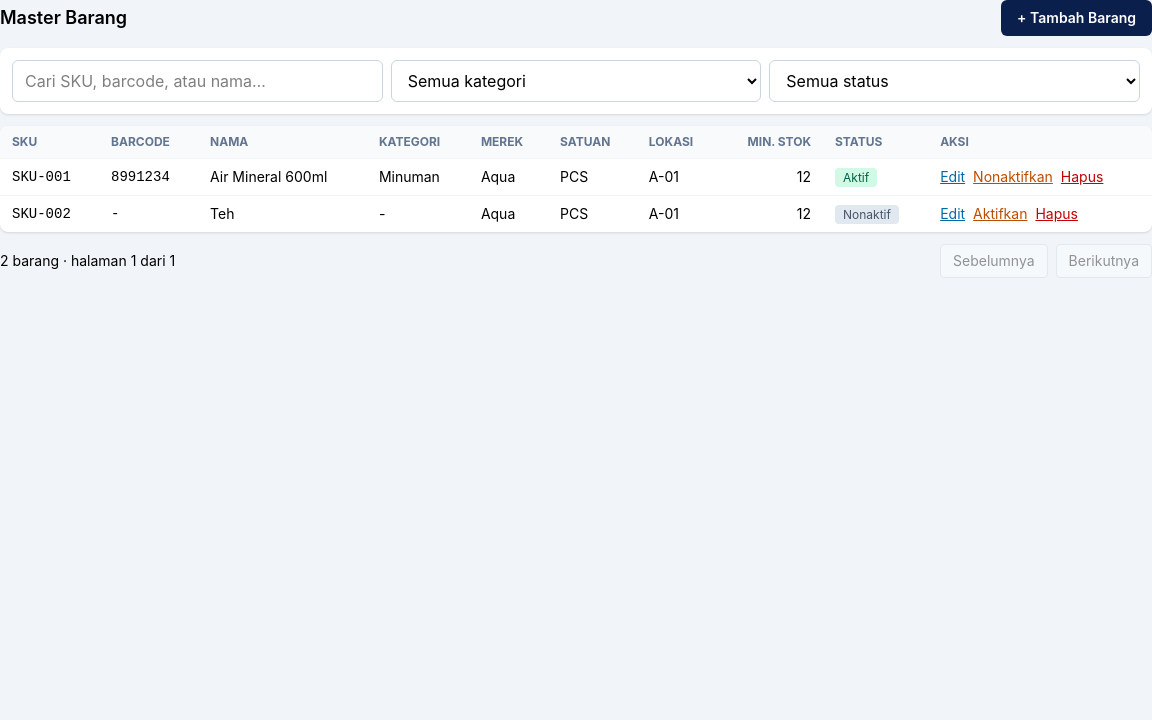
Test: Master Barang › edit: formulir terisi data barang dan memanggil updateProduct dengan id
Expected: the text "SKU-001" is shown, [0,158,99,196]
Click the button "Edit" in the row of "SKU-001": (953, 177) [940,167,965,187]
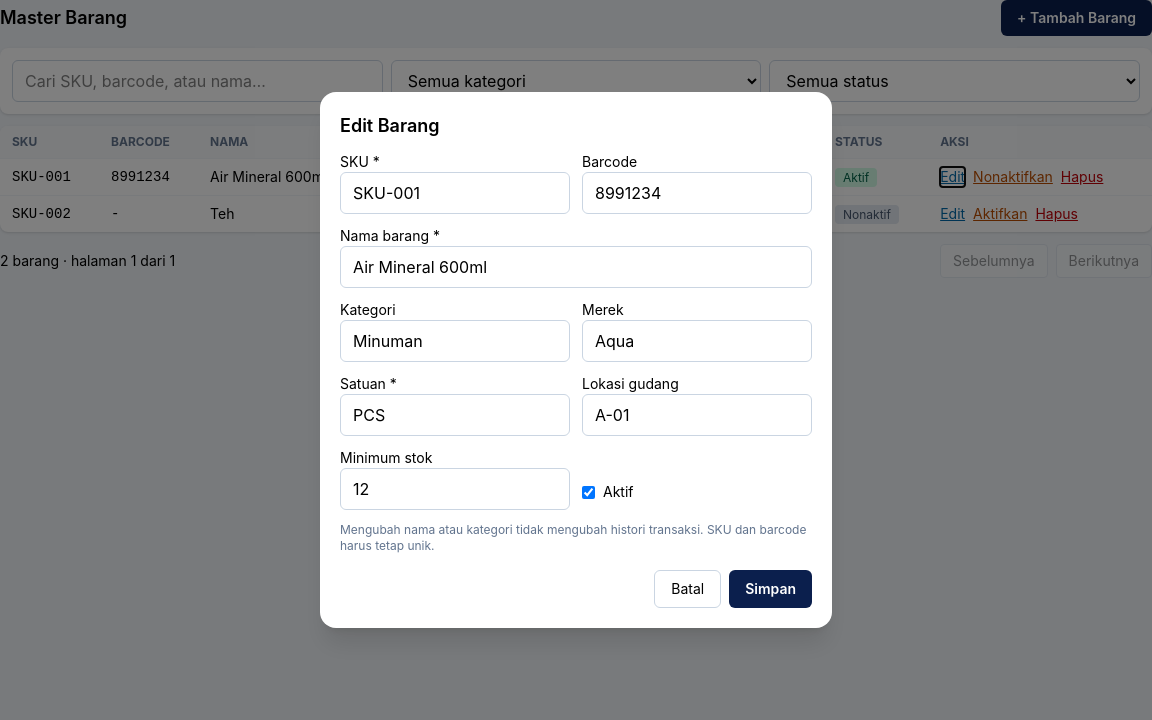
Result: the field labelled "SKU *" holds "SKU-001" at [340,172,570,214]
Result: the number field labelled "Minimum stok" holds "12" at [340,468,570,510]
Replace the text in the field labelled "Nama barang *" with "Air Mineral 1L": (576, 267) [340,246,812,288]
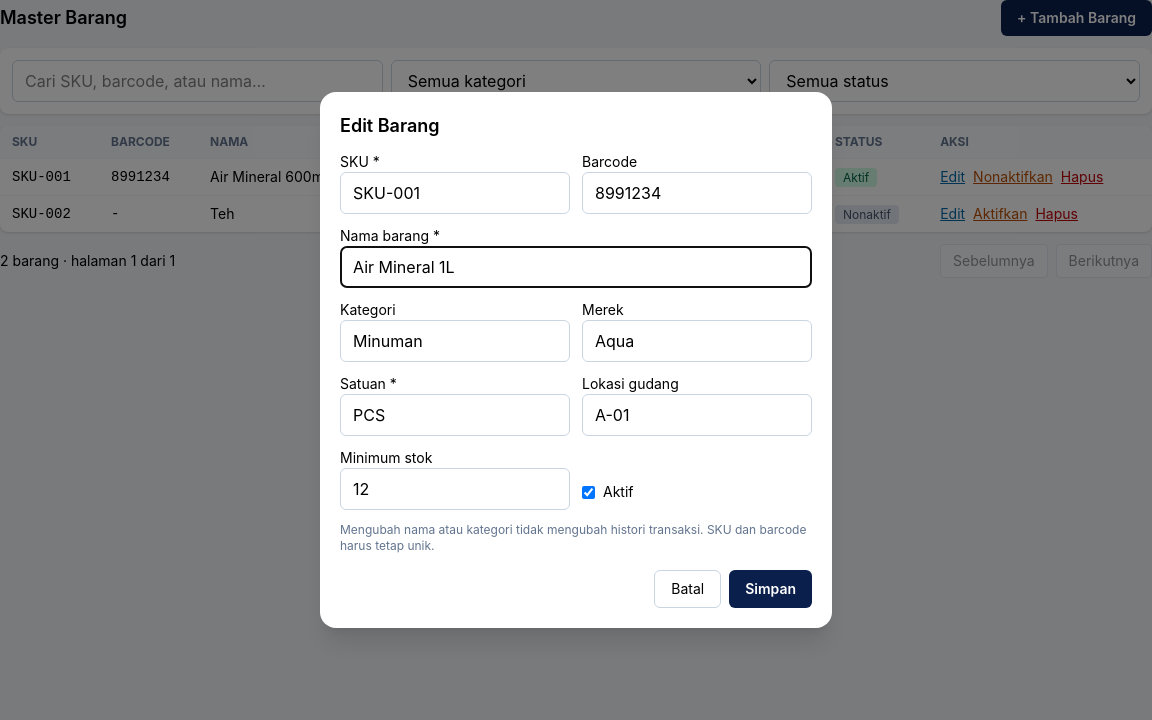
Click the button "Simpan": (771, 589) [729,570,812,608]
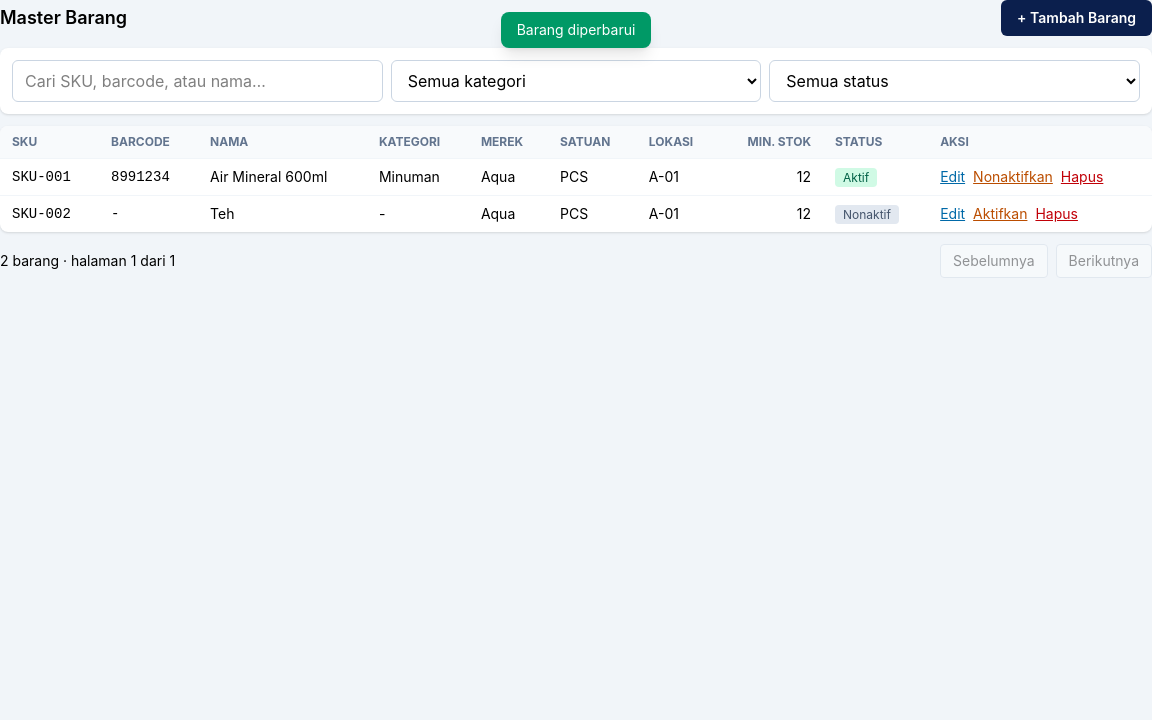
Result: the text "Barang diperbarui" is shown at [501,12,651,48]
